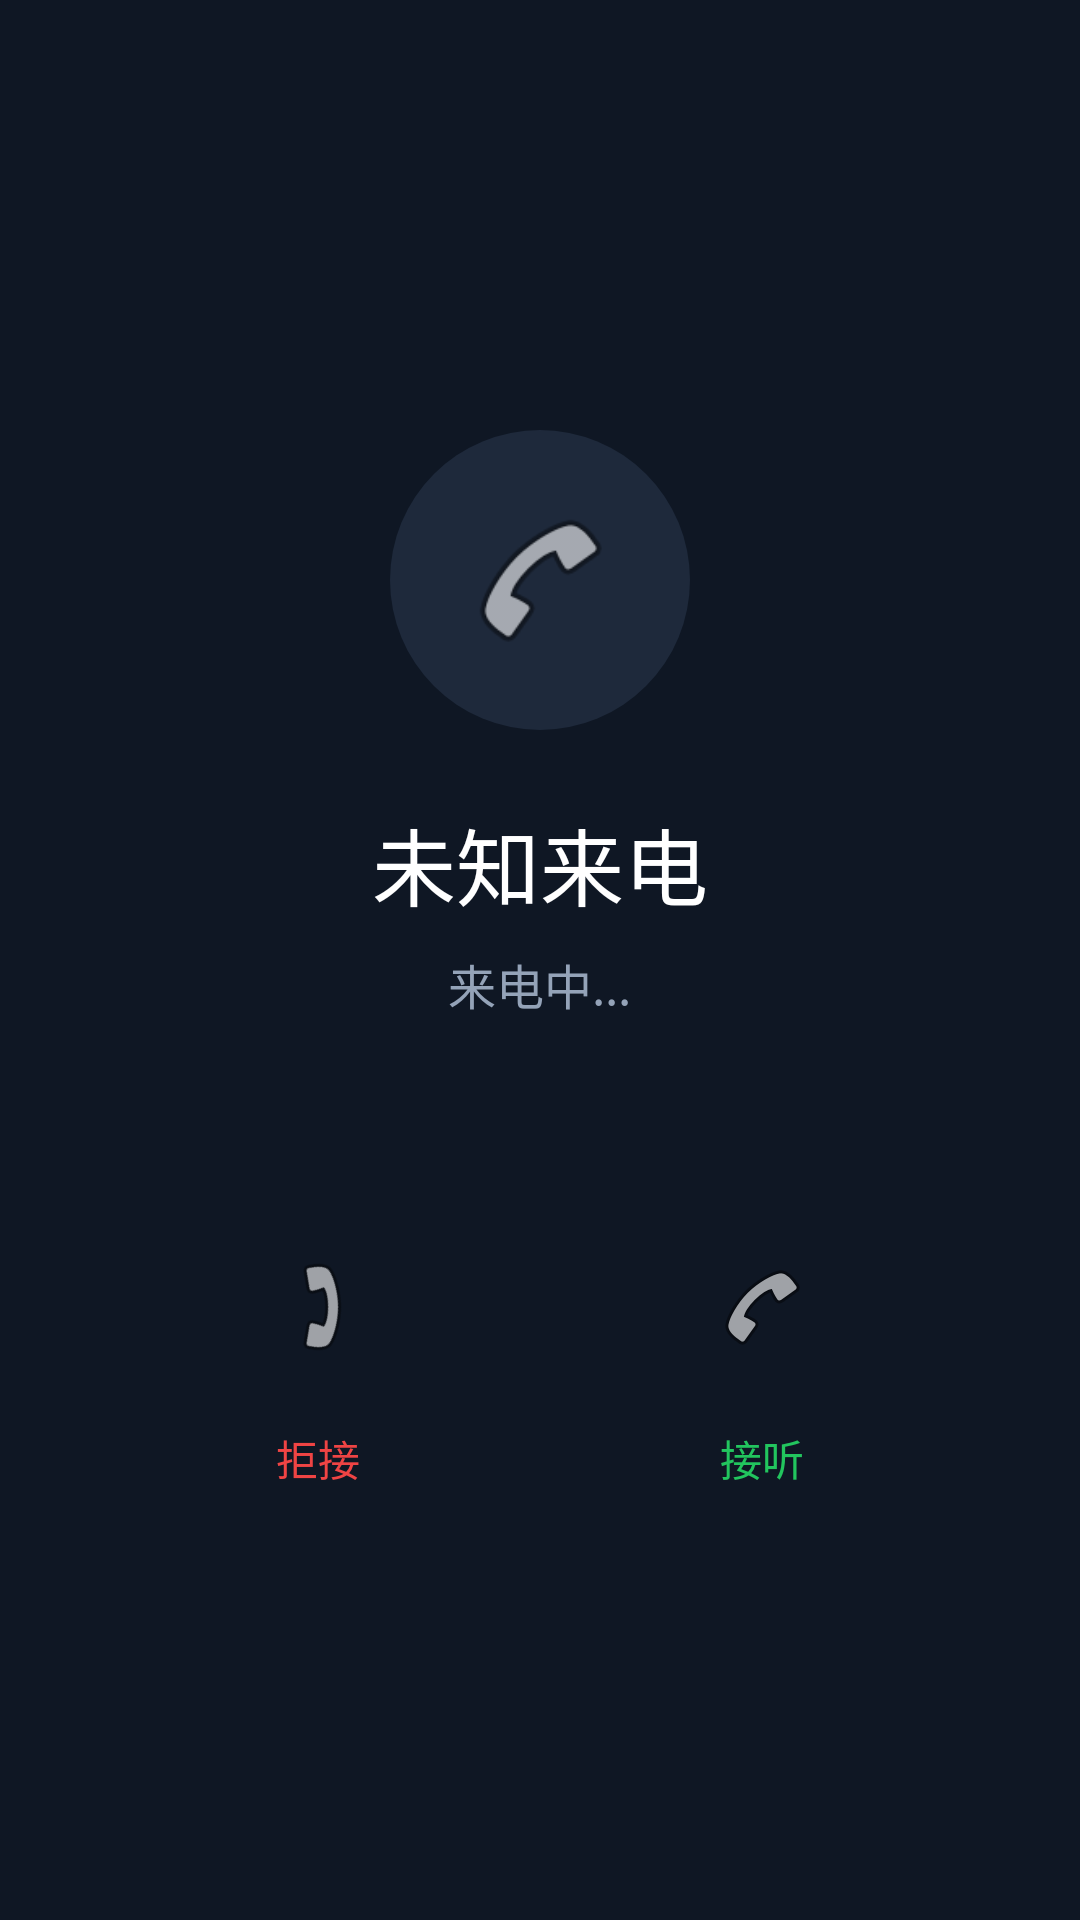

Icons on this 1080x1920 Android screen, each with its box as bbox=[x1, y1, x2, y2]:
call: bbox=[390, 430, 690, 730]
